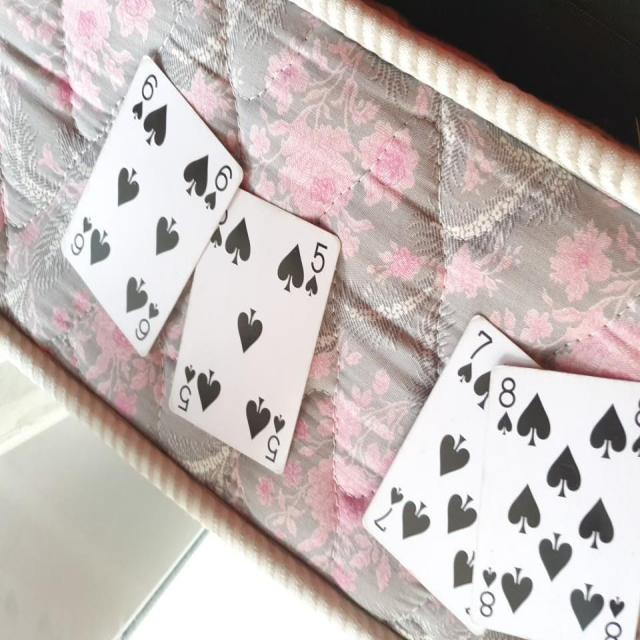5 Spades: (169, 198, 344, 484)
6 Spades: (54, 48, 245, 364)
7 Spades: (359, 309, 550, 640)
8 Spades: (480, 358, 637, 640)
